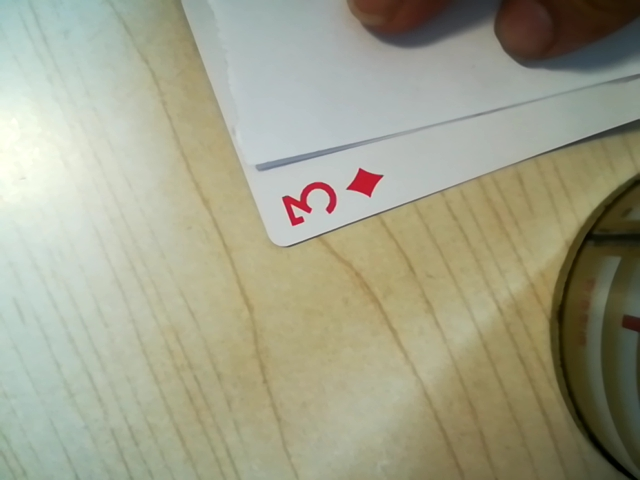fk 3: (269, 162, 382, 233)
